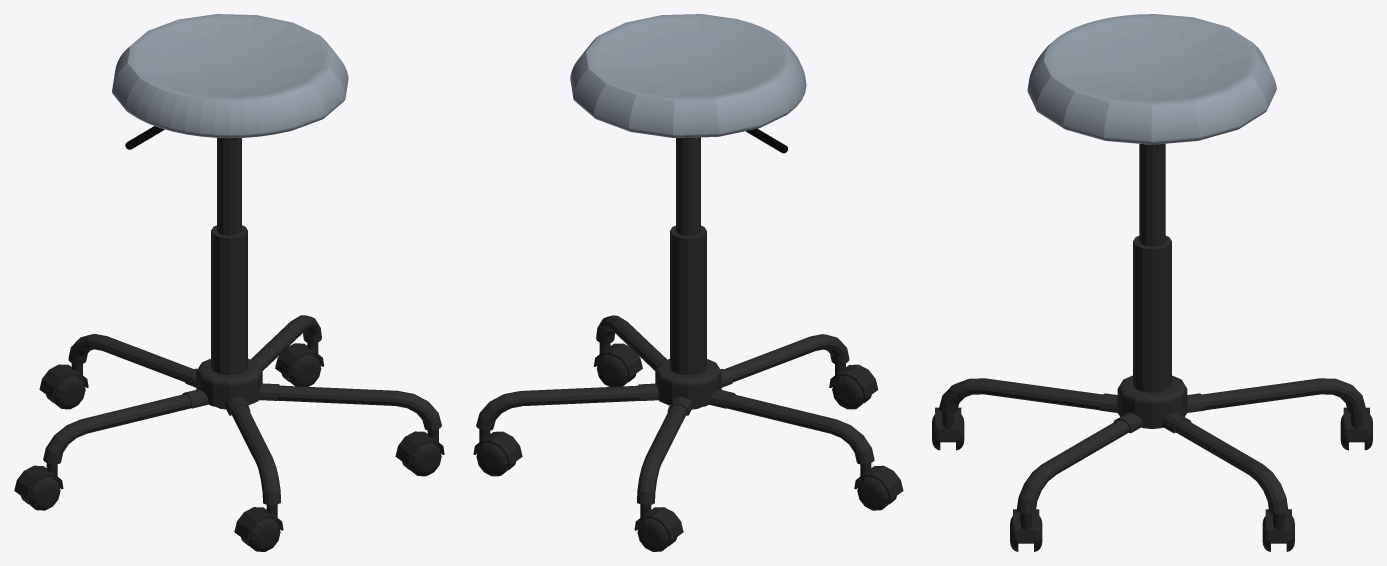
Rendered from stool_v2.dae.
3 views of the same model, side by side, from view 1: azimuth 30°, elevation 25°; view 2: azimuth 150°, elevation 25°; view 3: azimuth 270°, elevation 25° (orthographic). The views are drawn at different scales.
Parts seen in each view (by area): view 1: stool.001, stool, stool.003; view 2: stool.001, stool, stool.003; view 3: stool.001, stool, stool.003.
Boxes of the visible parts, box(x1,y1,x2,y2) form: stool.001: box(112, 14, 348, 138); stool: box(43, 138, 441, 508); stool.003: box(14, 342, 444, 551); stool.001: box(570, 14, 806, 137); stool: box(476, 137, 874, 510); stool.003: box(473, 343, 903, 551); stool.001: box(1027, 14, 1276, 144); stool: box(939, 143, 1365, 513); stool.003: box(932, 407, 1372, 551).
Bounding box in the file's own units: 0.5629 × 0.5688 × 0.6036.
